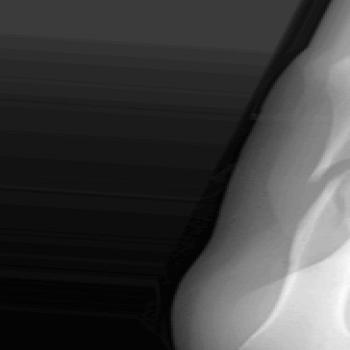Fracture: (298, 150, 350, 197)
